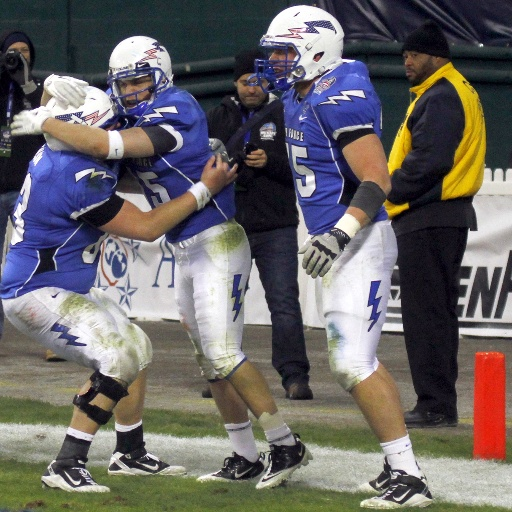hand: (296, 230, 346, 279), (198, 151, 239, 195), (43, 72, 89, 107), (6, 106, 50, 135), (6, 48, 35, 85), (243, 147, 268, 170), (207, 137, 227, 157)
